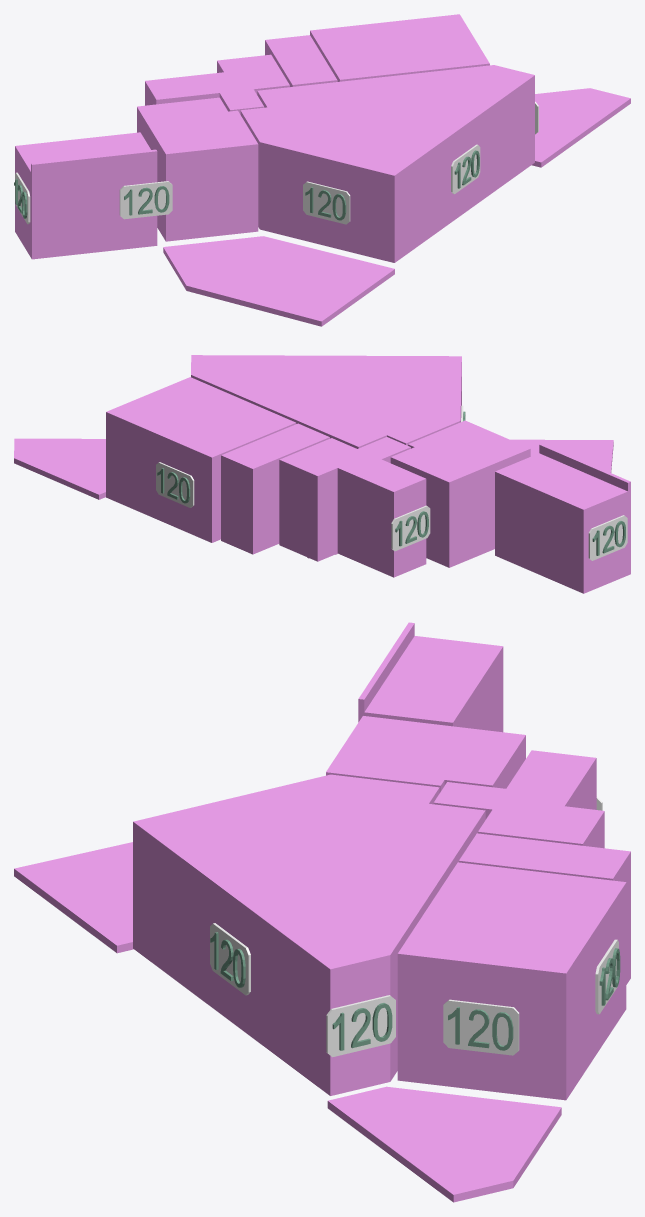
3 views of the same model, one above another, from view 1: azimuth 30°, elevation 25°; view 2: azimuth 150°, elevation 25°; view 3: azimuth 270°, elevation 25° (orthographic). The views are drawn at different scales.
Parts seen in each view (by area): view 1: g_0, g_5, g_4, g_7, g_1, g_3, g_6, g_2, g_11, g_27, g_15; view 2: g_0, g_1, g_3, g_5, g_4, g_2, g_6, g_7, g_19, g_35, g_39; view 3: g_0, g_1, g_6, g_5, g_4, g_3, g_7, g_2, g_31, g_23, g_15.
Boxes of the visible parts, bbox=[...] form: g_0: bbox=[240, 65, 534, 262]; g_5: bbox=[15, 132, 157, 259]; g_4: bbox=[137, 97, 258, 241]; g_7: bbox=[163, 236, 394, 326]; g_1: bbox=[310, 14, 489, 81]; g_3: bbox=[145, 54, 289, 114]; g_6: bbox=[531, 88, 630, 167]; g_2: bbox=[265, 35, 337, 86]; g_11: bbox=[119, 181, 172, 219]; g_27: bbox=[303, 181, 350, 224]; g_15: bbox=[451, 144, 480, 194]; g_0: bbox=[191, 355, 461, 448]; g_1: bbox=[106, 377, 296, 542]; g_3: bbox=[279, 437, 426, 577]; g_5: bbox=[495, 443, 630, 593]; g_4: bbox=[390, 420, 530, 567]; g_2: bbox=[221, 423, 329, 554]; g_6: bbox=[14, 438, 105, 499]; g_7: bbox=[510, 439, 613, 472]; g_19: bbox=[588, 515, 627, 560]; g_35: bbox=[391, 505, 430, 551]; g_39: bbox=[156, 462, 194, 507]; g_0: bbox=[133, 774, 485, 1095]; g_1: bbox=[397, 862, 626, 1100]; g_6: bbox=[327, 1086, 561, 1202]; g_5: bbox=[358, 622, 503, 732]; g_4: bbox=[326, 716, 525, 792]; g_3: bbox=[433, 750, 604, 848]; g_7: bbox=[14, 842, 133, 953]; g_2: bbox=[459, 833, 630, 984]; g_31: bbox=[443, 999, 519, 1055]; g_23: bbox=[326, 995, 395, 1057]; g_15: bbox=[210, 923, 250, 995].
Size of the model in its own units: 18.38 by 2.85 by 11.
